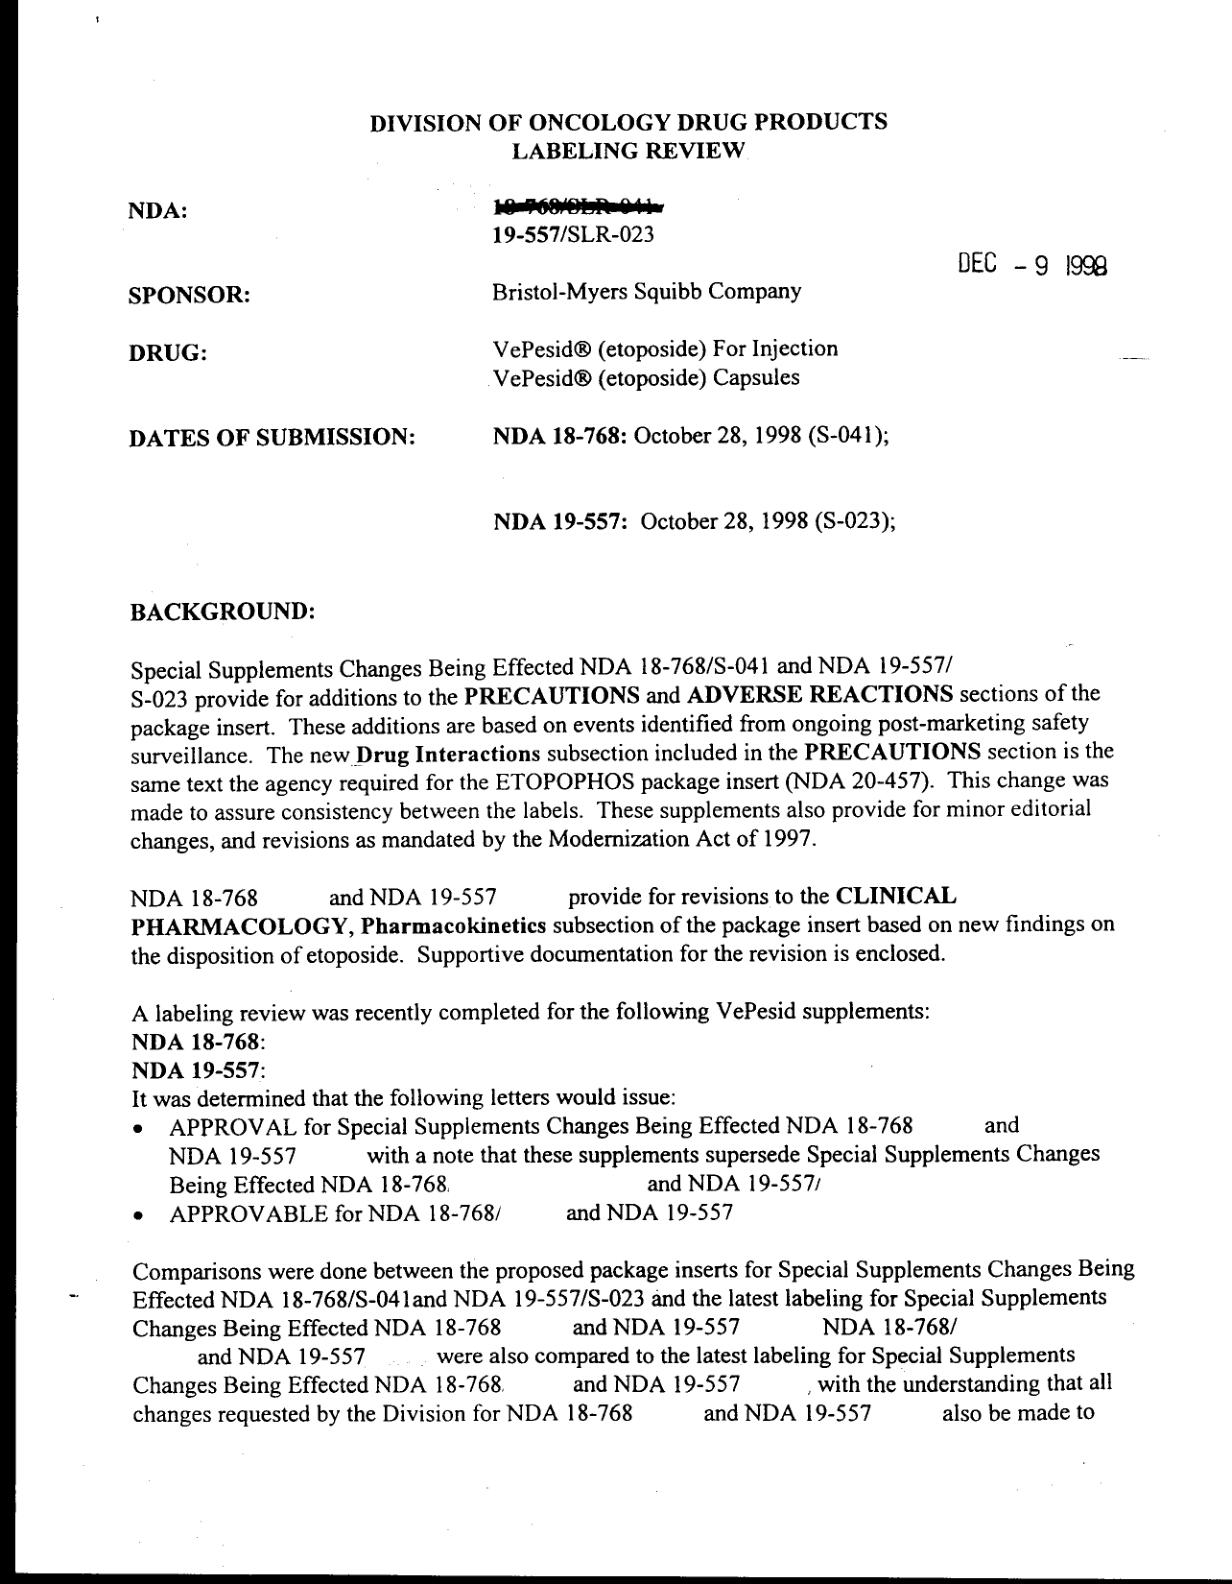nolines: (122, 192, 901, 536)
